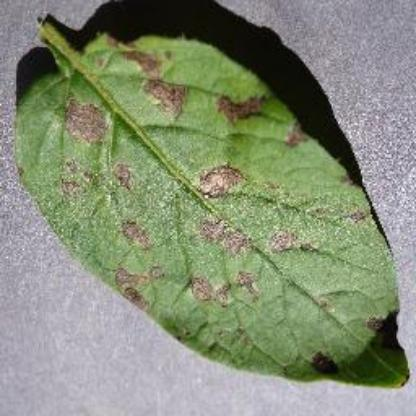Early-Blight: (10, 11, 410, 390)
